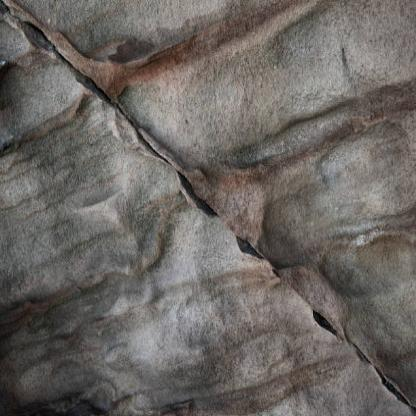Sedimentary_Sandstone: (4, 12, 416, 415)
